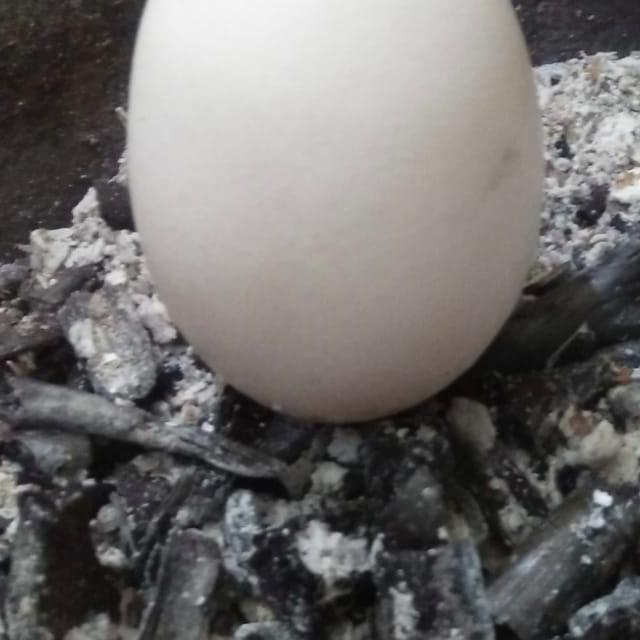egg: (118, 0, 548, 425)
